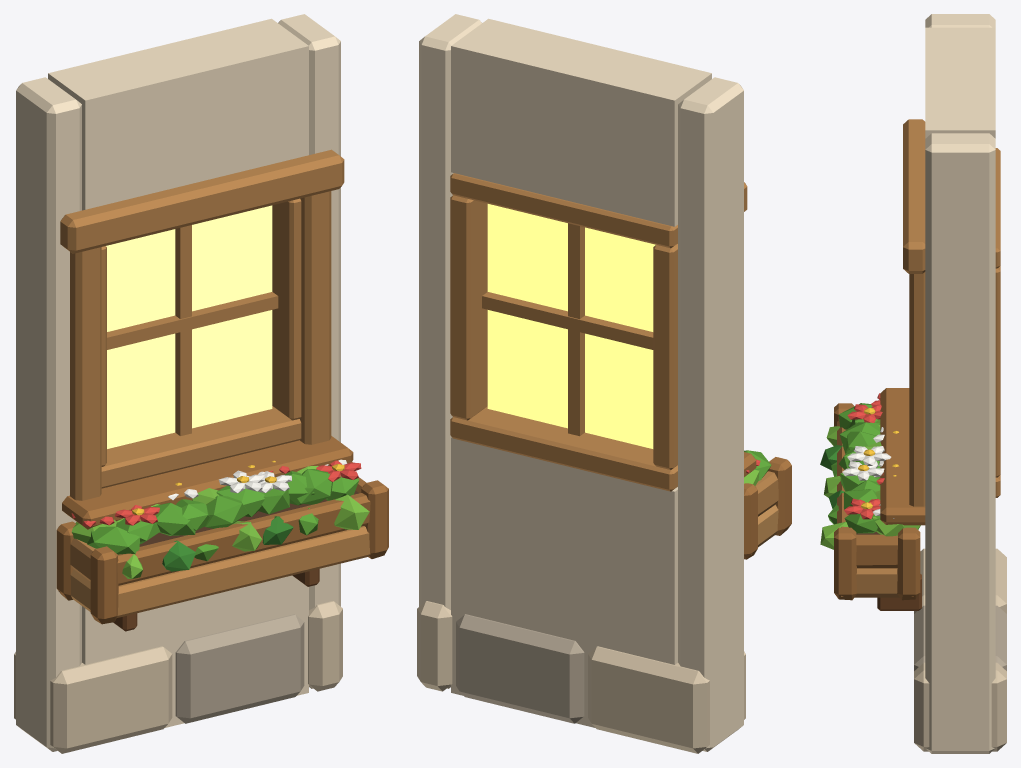
File: wall_window_box.glb
The picture shows the model from 3 angles, left to right: view 1: azimuth 30°, elevation 25°; view 2: azimuth 150°, elevation 25°; view 3: azimuth 270°, elevation 25°; orthographic projection. The views are drawn at different scales.
Parts seen in each view (by area): view 1: wall_window_box; view 2: wall_window_box; view 3: wall_window_box.
Part boxes in pixels (x1,y1,x2,y2): wall_window_box: [14, 14, 388, 753]; wall_window_box: [417, 14, 791, 753]; wall_window_box: [820, 14, 1006, 753].
Bounding box in the file's own units: 1 × 2.1 × 0.5834.
